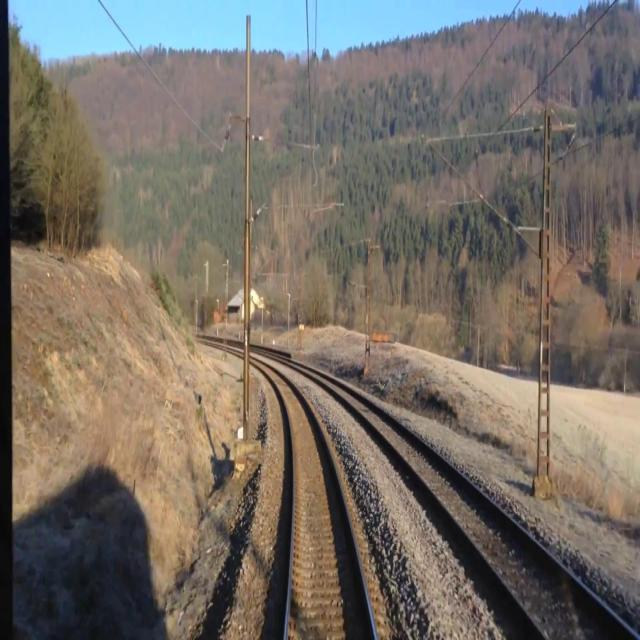rail-track: (313, 372, 634, 639), (262, 365, 372, 639)
